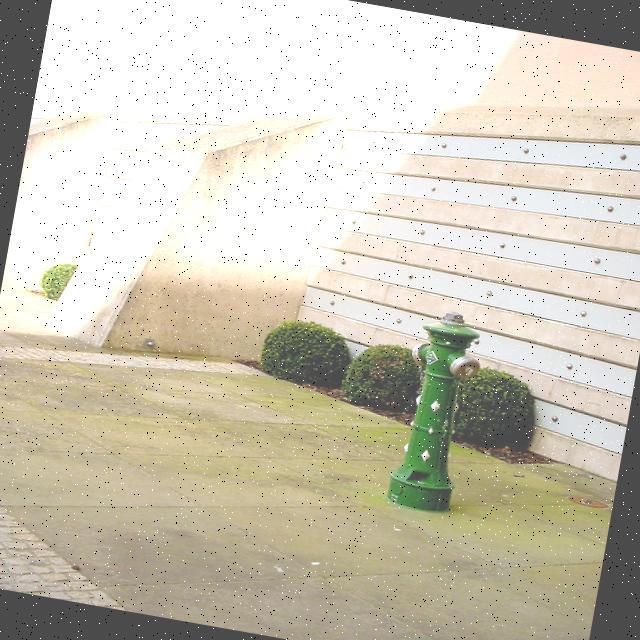fire_hydrant: (381, 306, 488, 516)
